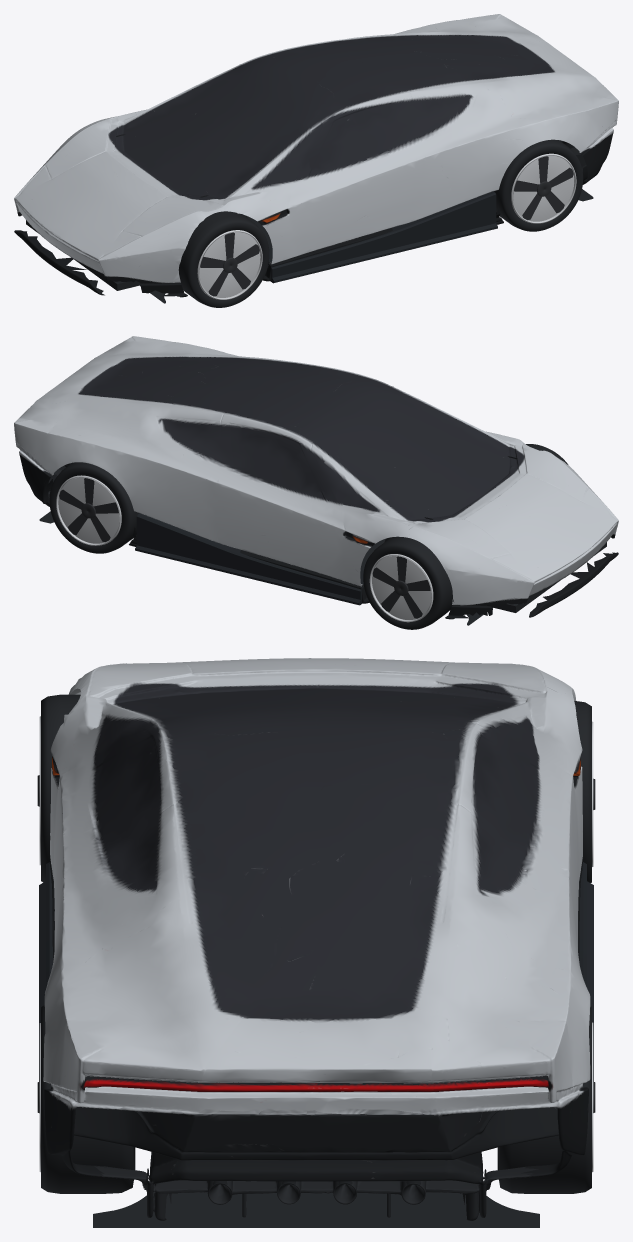
Rendered from roadster-mobile.glb.
3 views of the same model, one above another, from view 1: azimuth 30°, elevation 25°; view 2: azimuth 150°, elevation 25°; view 3: azimuth 270°, elevation 25° (orthographic). The views are drawn at different scales.
Parts seen in each view (by area): view 1: Meshy body - gently smoothed, Left rebuilt side skirt, Tyre 2, Tyre 4, Wheel face 4, Wheel face 2, Five dark spokes 4, Five dark spokes 2, Alloy rim 4, Alloy rim 2, Internal front shield; view 2: Meshy body - gently smoothed, Right rebuilt side skirt, Tyre 1, Tyre 3, Wheel face 3, Wheel face 1, Five dark spokes 3, Five dark spokes 1, Alloy rim 3, Alloy rim 1, Internal front shield, Smooth undertray; view 3: Meshy body - gently smoothed, Smooth undertray, Tyre 4, Tyre 3, Tyre 2, Tyre 1, Right rebuilt side skirt, Left rebuilt side skirt.
Part boxes in pixels (x1,y1,x2,y2): Meshy body - gently smoothed: (14, 14, 618, 297); Left rebuilt side skirt: (267, 191, 497, 283); Tyre 2: (178, 211, 269, 307); Tyre 4: (494, 139, 583, 231); Wheel face 4: (513, 156, 574, 221); Wheel face 2: (199, 232, 260, 297); Five dark spokes 4: (514, 156, 573, 220); Five dark spokes 2: (200, 232, 259, 296); Alloy rim 4: (511, 153, 576, 223); Alloy rim 2: (197, 230, 262, 299); Internal front shield: (26, 220, 145, 290); Meshy body - gently smoothed: (14, 336, 618, 619); Right rebuilt side skirt: (135, 513, 363, 605); Tyre 1: (363, 536, 453, 629); Tyre 3: (49, 462, 137, 553); Wheel face 3: (58, 477, 119, 543); Wheel face 1: (372, 556, 431, 619); Five dark spokes 3: (59, 478, 118, 542); Five dark spokes 1: (372, 556, 430, 618); Alloy rim 3: (56, 475, 121, 545); Alloy rim 1: (369, 554, 433, 622); Internal front shield: (487, 542, 606, 612); Smooth undertray: (39, 511, 492, 625); Meshy body - gently smoothed: (43, 658, 590, 1220); Smooth undertray: (93, 1191, 539, 1227); Tyre 4: (41, 1005, 135, 1193); Tyre 3: (497, 1006, 591, 1193); Tyre 2: (41, 694, 80, 882); Tyre 1: (574, 701, 591, 882); Right rebuilt side skirt: (579, 862, 593, 1081); Left rebuilt side skirt: (39, 862, 52, 1081).
Bounding box in the file's own units: 1.9 × 0.5137 × 0.886.
5 materials, 1 textured.
